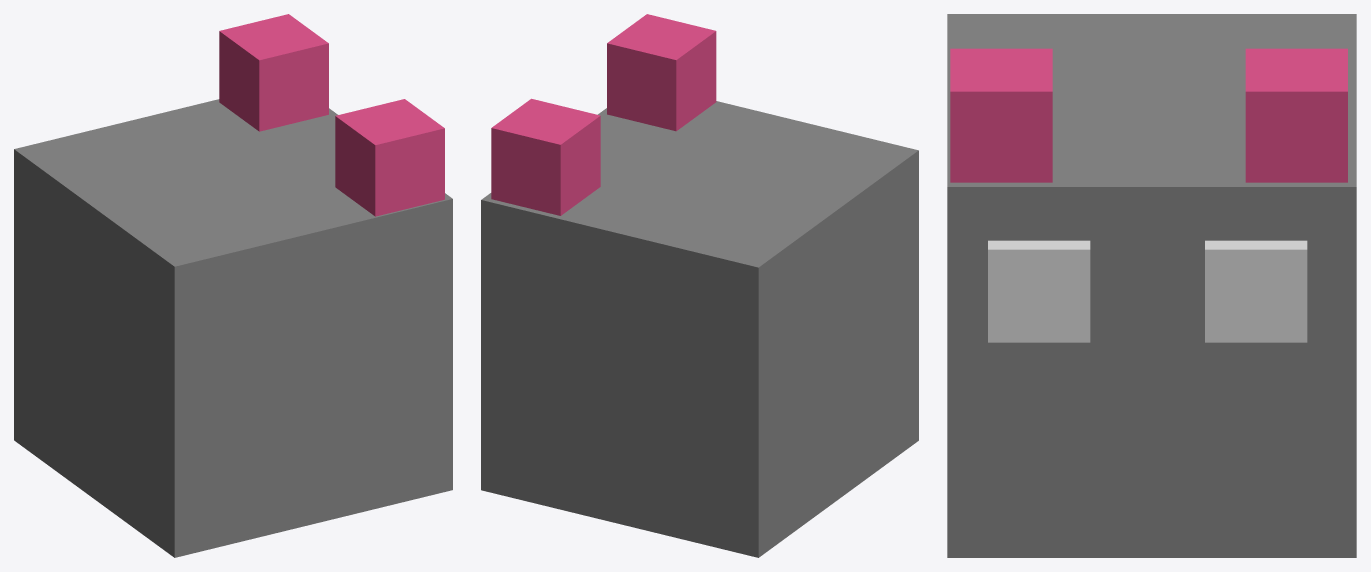
3 renders of one model, left to right at view 1: azimuth 30°, elevation 25°; view 2: azimuth 150°, elevation 25°; view 3: azimuth 270°, elevation 25°, orthographic. The views are drawn at different scales.
Parts seen in each view (by area): view 1: Cube, Cube.001, Cube.002; view 2: Cube, Cube.001, Cube.002; view 3: Cube, Cube.001, Cube.002, Cube.003, Cube.004.
Boxes of the visible parts, box(x1,y1,x2,y2) form: Cube: box(14, 99, 452, 557); Cube.001: box(335, 99, 444, 216); Cube.002: box(219, 14, 328, 131); Cube: box(481, 101, 918, 557); Cube.001: box(607, 14, 716, 131); Cube.002: box(491, 98, 600, 215); Cube: box(947, 14, 1356, 557); Cube.001: box(950, 48, 1052, 182); Cube.002: box(1245, 48, 1347, 182); Cube.003: box(988, 240, 1090, 342); Cube.004: box(1205, 240, 1307, 342).
Bounding box in the file's own units: 2.11 × 2.49 × 2.
